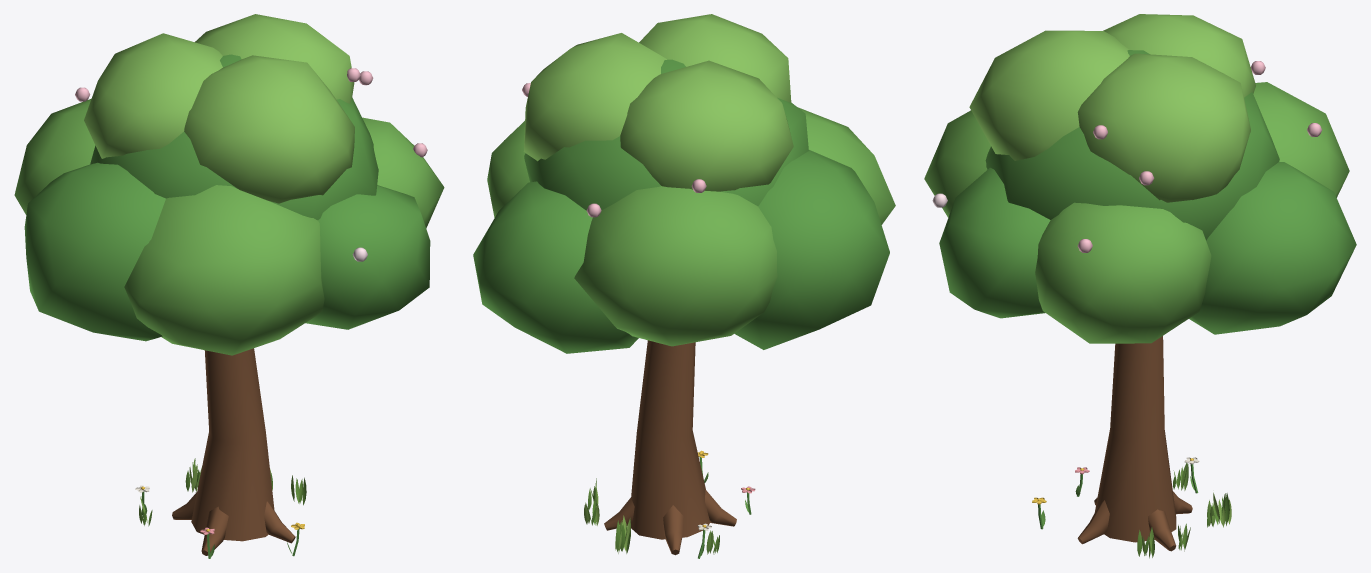
Rendered from tree.glb.
The picture shows the model from 3 angles, left to right: view 1: azimuth 30°, elevation 25°; view 2: azimuth 150°, elevation 25°; view 3: azimuth 270°, elevation 25°; orthographic projection. The views are drawn at different scales.
Visible parts, largest first — view 1: Canopy, Trunk; view 2: Canopy, Trunk; view 3: Canopy, Trunk.
Boxes of the visible parts, x1,y1,x2,y2 form: Canopy: [14, 14, 444, 355]; Trunk: [135, 348, 306, 558]; Canopy: [473, 14, 895, 353]; Trunk: [584, 340, 755, 558]; Canopy: [924, 14, 1356, 343]; Trunk: [1032, 336, 1231, 558].
Bounding box in the file's own units: 4.08 × 4.96 × 3.92.
